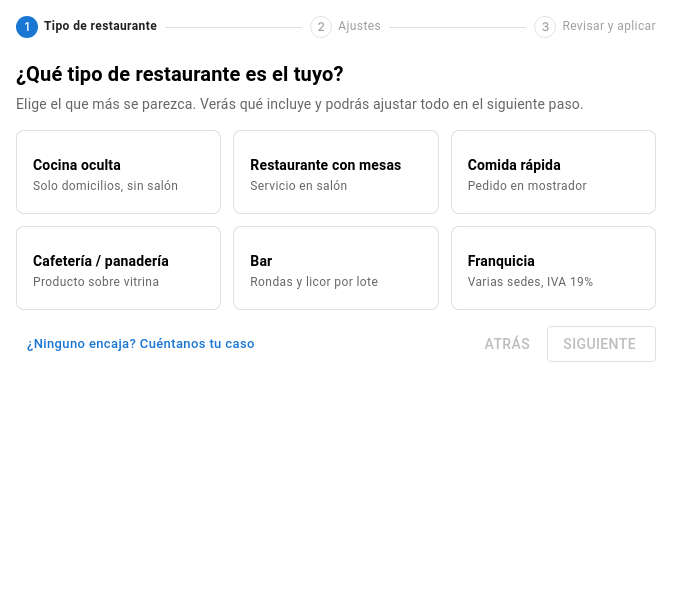
Test: Paso 3 — Revisar y aplicar › muestra el bloque "Se activará" con etiquetas humanas
The width and height of the screenshot is (674, 610).
Click the text "Restaurante con mesas": (336, 165) [250,155,422,175]
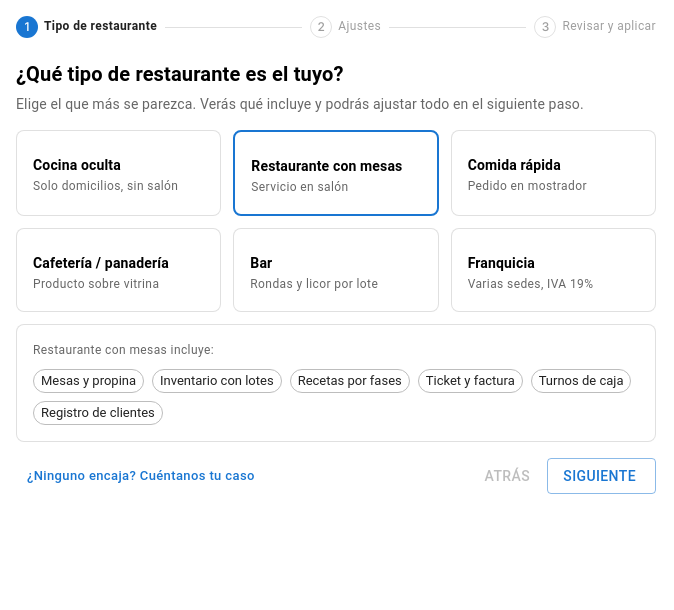
Click the button "Siguiente": (602, 476) [547,458,656,494]
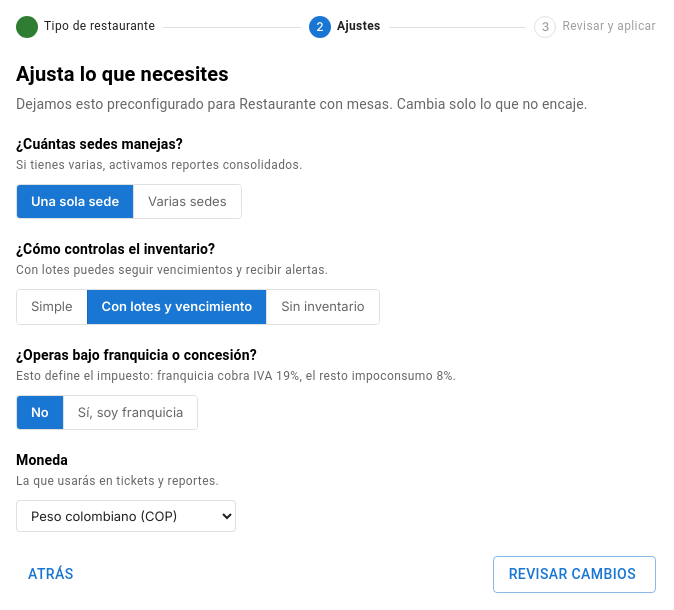
Click the button "Revisar cambios": (574, 574) [493,556,656,593]
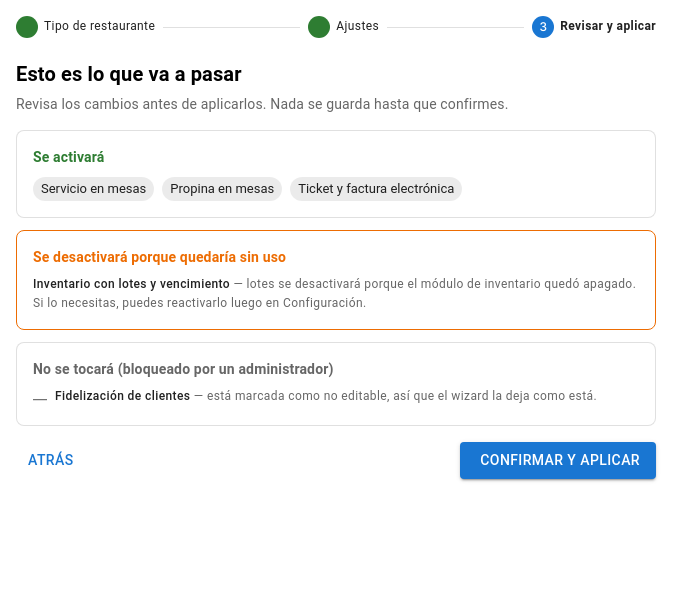
Expected: the button "Confirmar y aplicar" is shown, [460,442,656,479]
Expected: the text "Se activará" is shown, [33,147,104,167]
Expected: the text "Servicio en mesas" is shown, [33,179,154,199]
